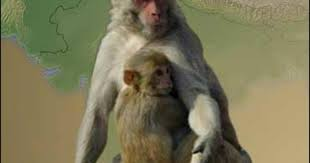monkey: (110, 0, 274, 163), (115, 25, 214, 163)
